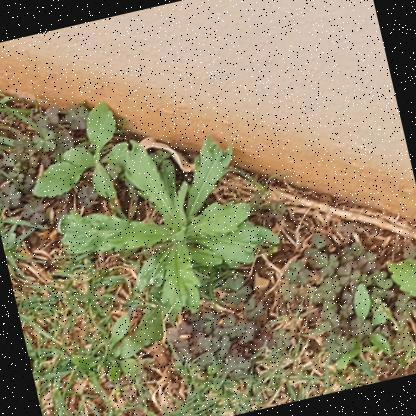Weeds: (40, 112, 291, 340), (19, 95, 155, 219), (314, 278, 398, 379), (65, 315, 145, 396), (387, 250, 415, 375)
